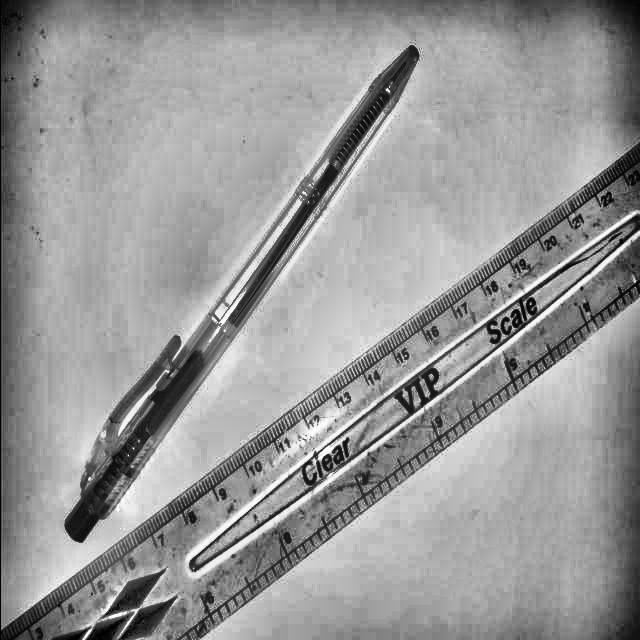Pen: (63, 37, 430, 549)
